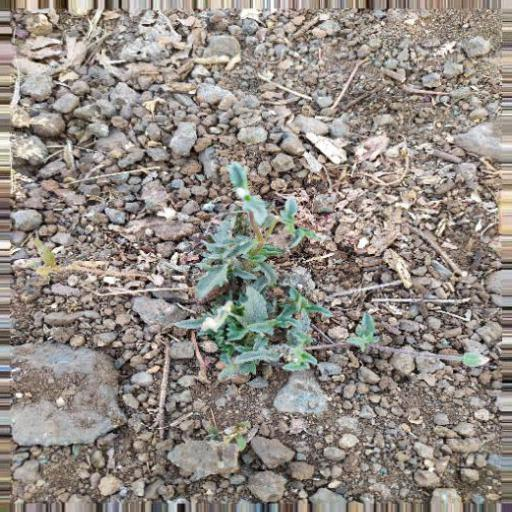weed: (180, 160, 321, 380)
